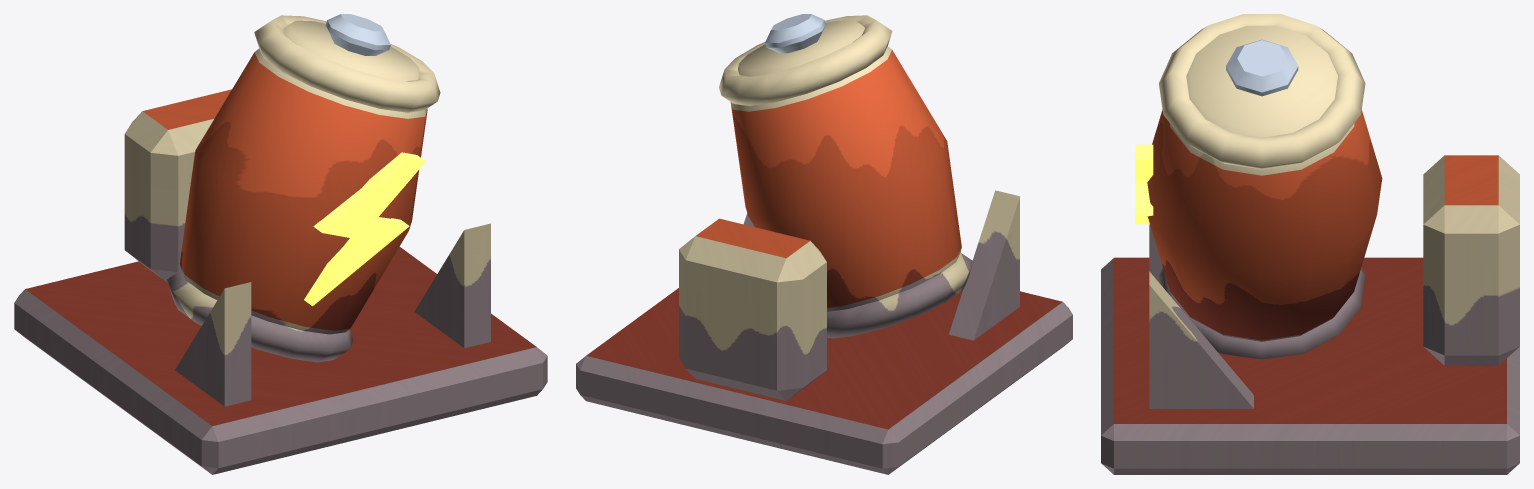
Rendered from R4X_Battery_LOD1.glb.
The picture shows the model from 3 angles, left to right: view 1: azimuth 30°, elevation 25°; view 2: azimuth 150°, elevation 25°; view 3: azimuth 270°, elevation 25°; orthographic projection. The views are drawn at different scales.
Visible parts, largest first — view 1: R4X_Battery_LOD1; view 2: R4X_Battery_LOD1; view 3: R4X_Battery_LOD1.
Boxes of the visible parts, box(x1,y1,x2,y2) form: R4X_Battery_LOD1: box(14, 14, 547, 474); R4X_Battery_LOD1: box(576, 14, 1072, 474); R4X_Battery_LOD1: box(1101, 14, 1519, 474).
Bounding box in the file's own units: 0.52 × 0.5095 × 0.52.
4 materials, 3 textured.
